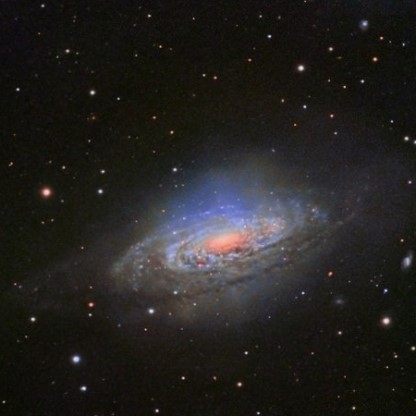NGC 3521: (39, 166, 391, 372)
